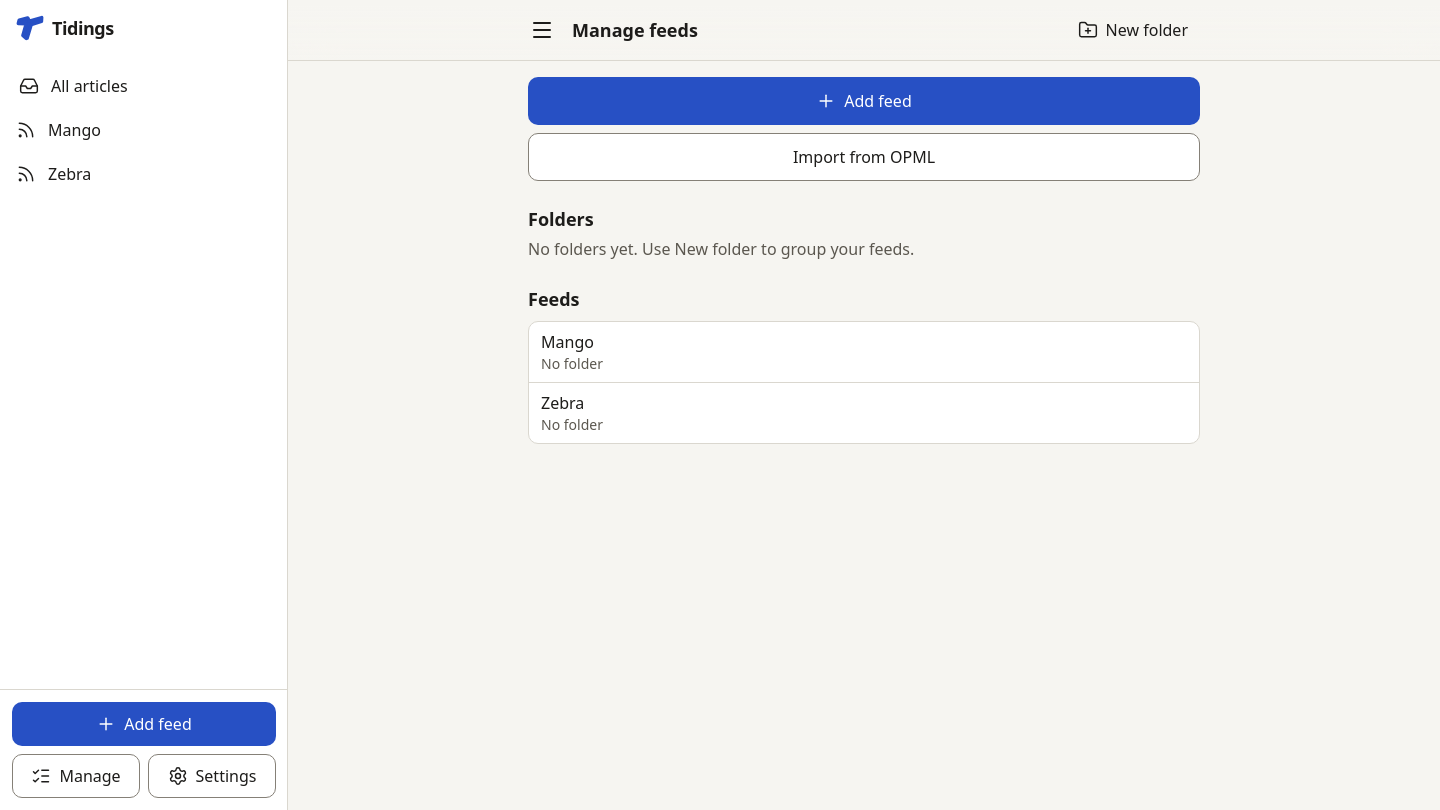
Test case: the sheet › an empty address asks for one and sends nothing
Expected: the heading "Folders" is shown, left=528, top=207, right=594, bottom=231
Click the button with aria-label "Mango, options": (567,342) left=529, top=322, right=1199, bottom=382
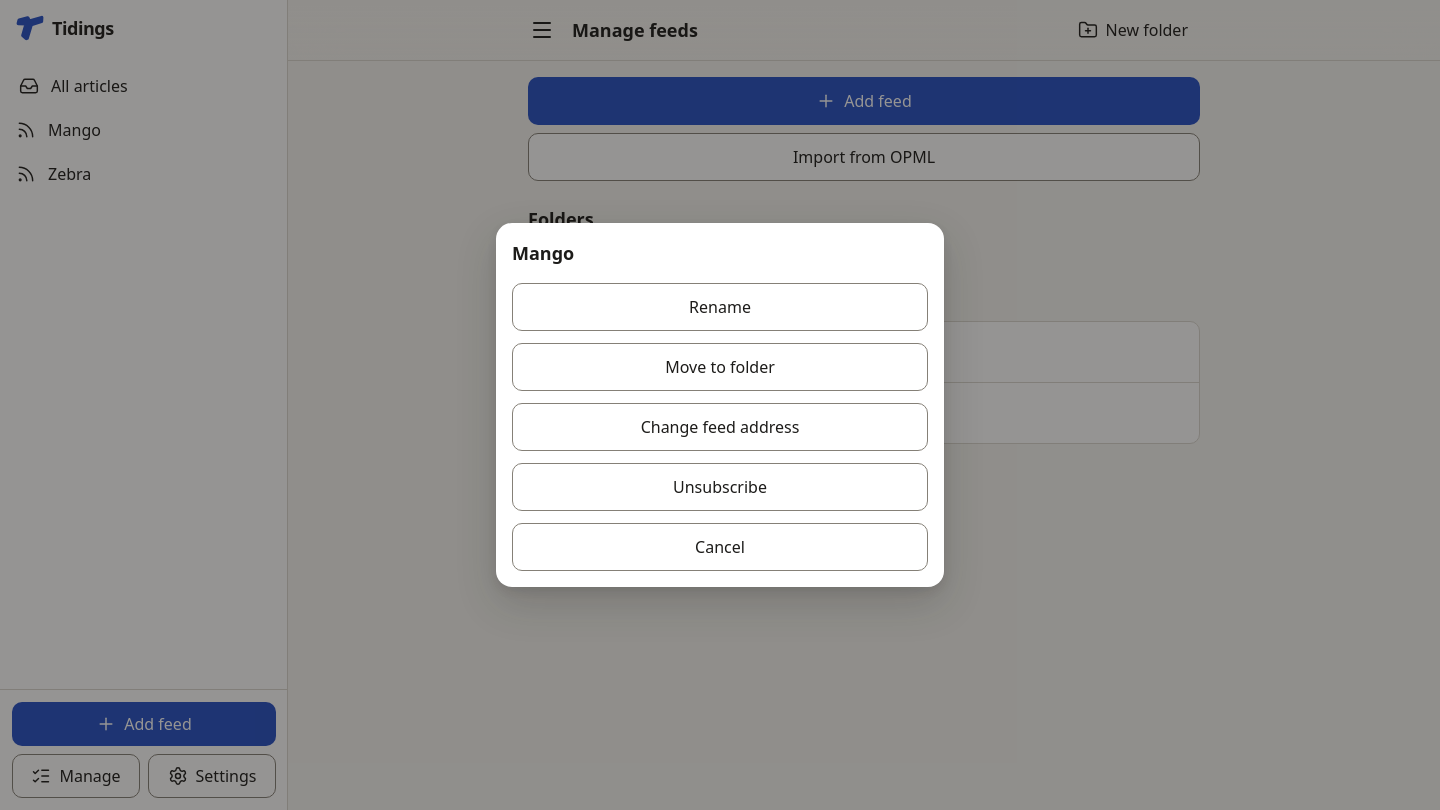
Click the button "Change feed address": (720,427) left=512, top=403, right=928, bottom=451
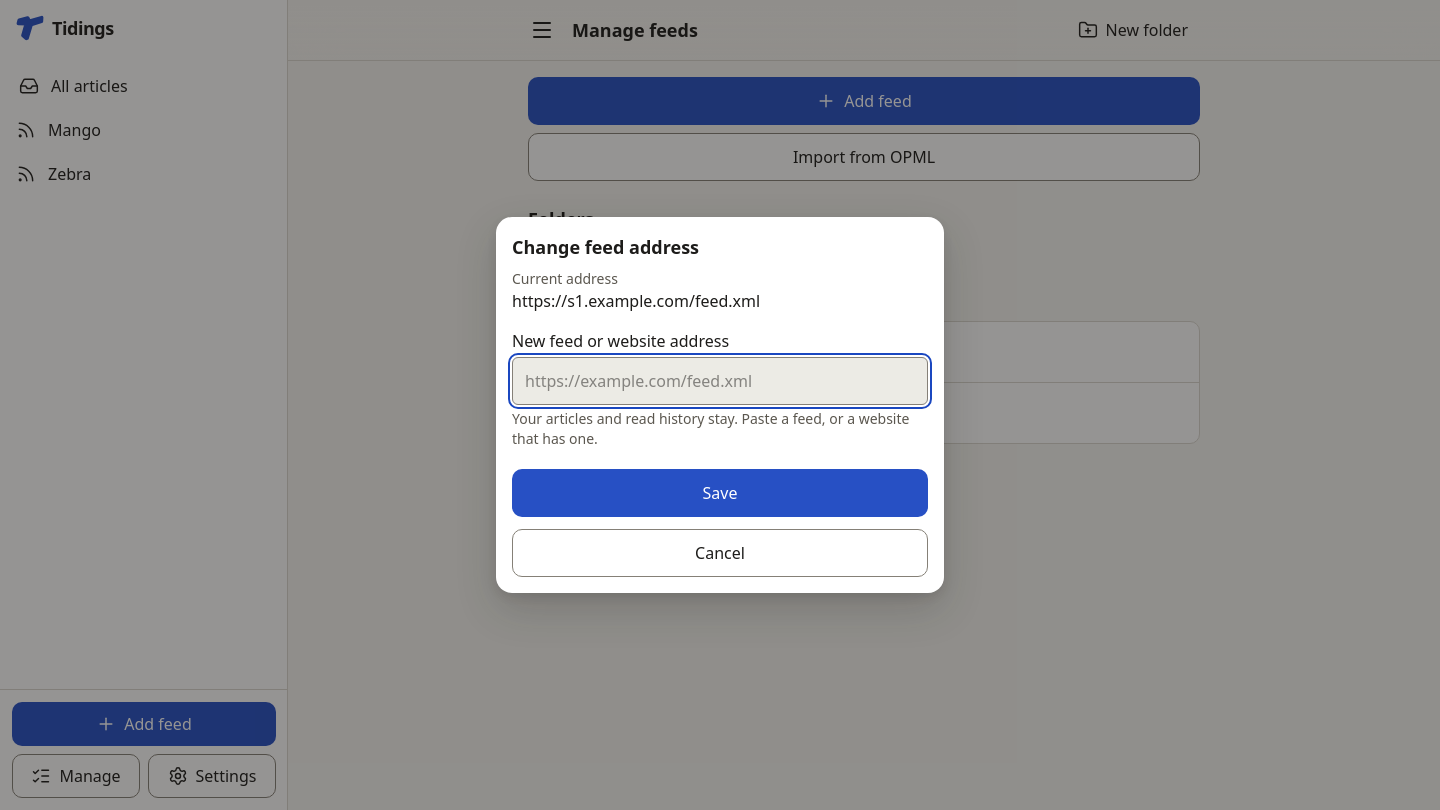
Click the button "Save": (720,493) left=512, top=469, right=928, bottom=517
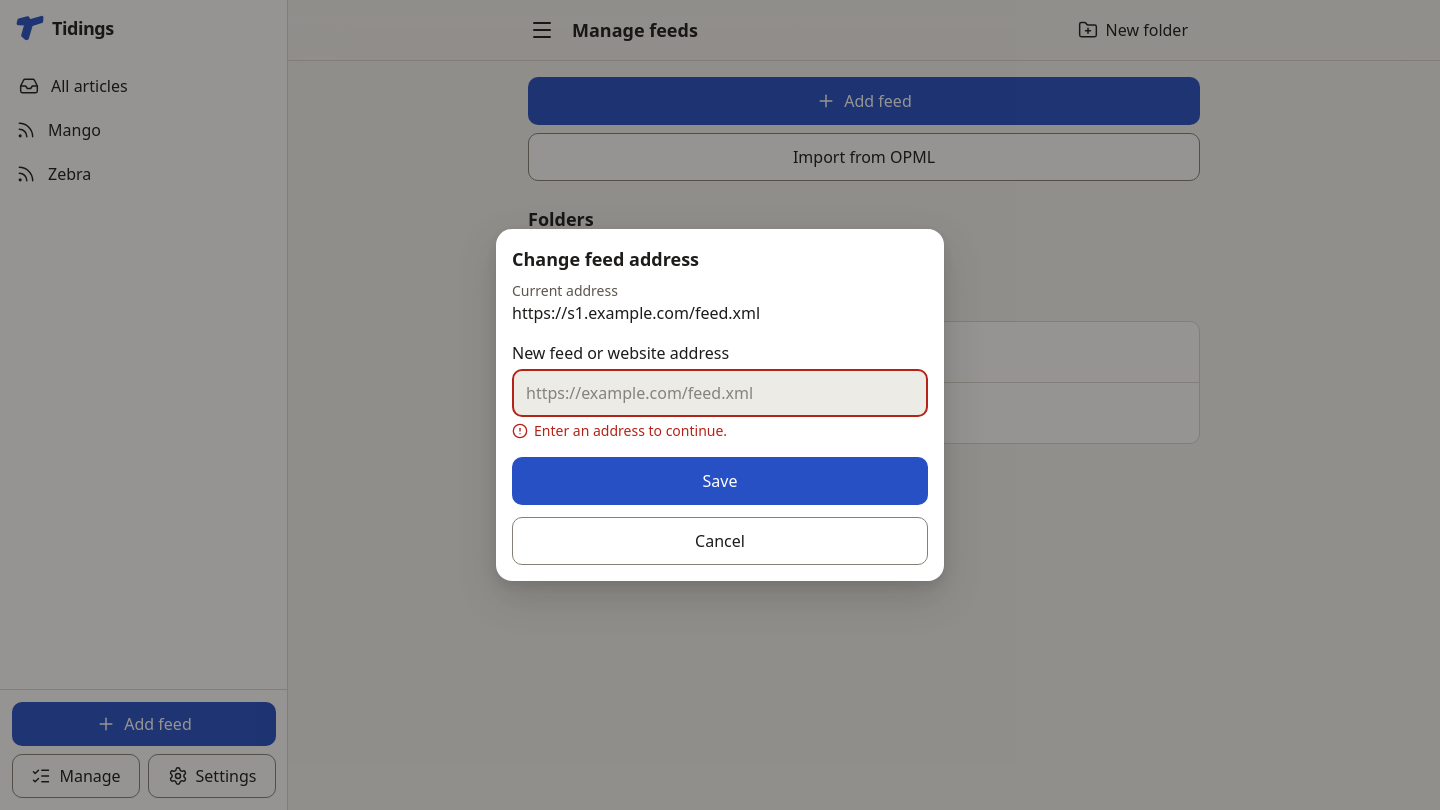
Now the text "Enter an address to continue." is shown, box left=534, top=421, right=727, bottom=441
